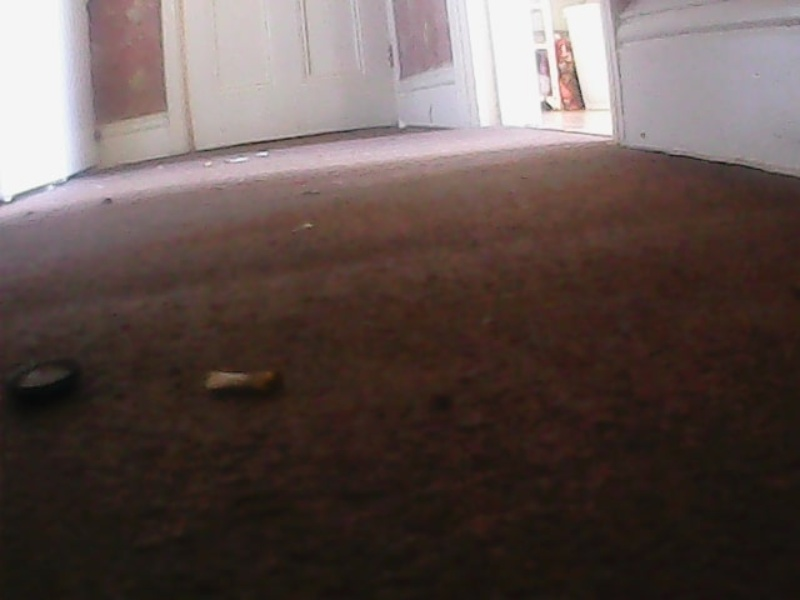cig: (207, 362, 281, 400), (222, 155, 250, 164)
